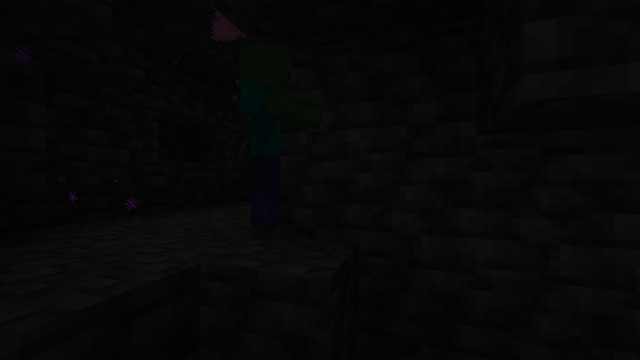zombies: (230, 42, 294, 244)
